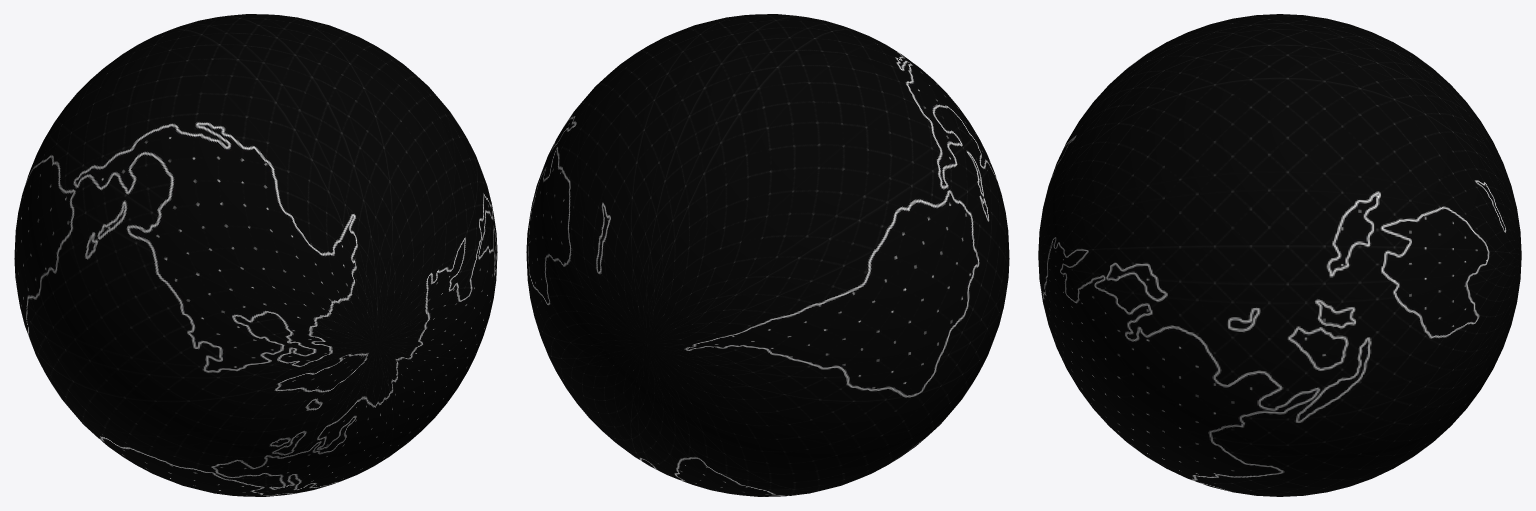
File: earth.glb
3 renders of one model, left to right at view 1: azimuth 30°, elevation 25°; view 2: azimuth 150°, elevation 25°; view 3: azimuth 270°, elevation 25°, orthographic.
Parts seen in each view (by area): view 1: object_out; view 2: object_out; view 3: object_out.
Part boxes in pixels (left/top/right/bottom): object_out: left=14, top=14, right=497, bottom=496; object_out: left=526, top=14, right=1009, bottom=496; object_out: left=1038, top=14, right=1521, bottom=496.
Size of the model in its own units: 86.23 by 86.23 by 86.23.
2 materials, 2 textured.
